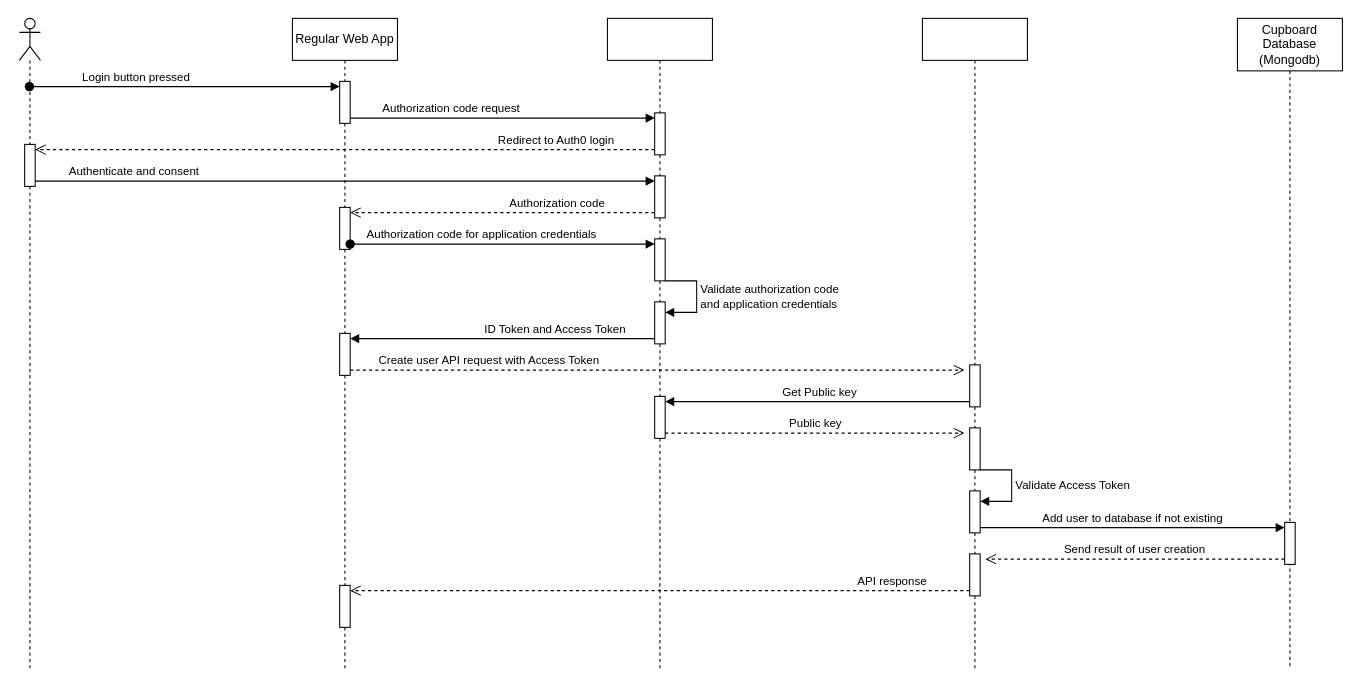
The diagram is 1361 pixels wide and 688 high, and some of its shapes have lost their labels. Here are the shapes that lost their labels. From the top down, the centre of each, then its label:
the point at 659,343: Auth0 Tenant
the point at 974,343: Cupboard API
